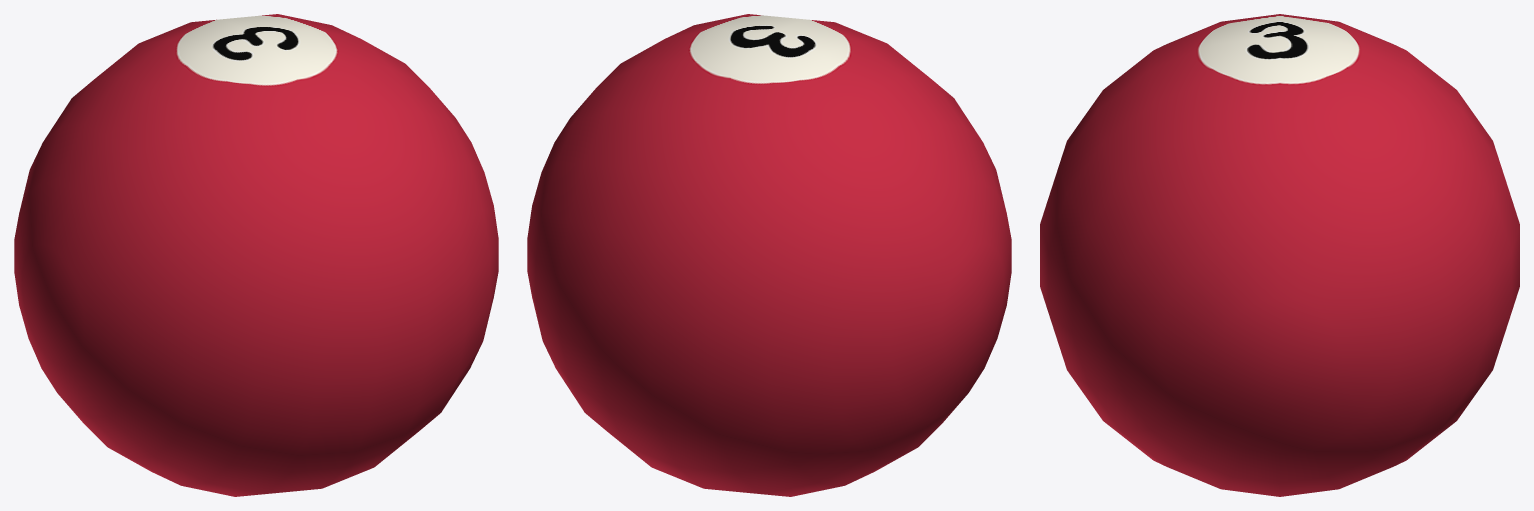
The model's file is Pool_Ball_03.fbx.
3 renders of one model, left to right at view 1: azimuth 30°, elevation 25°; view 2: azimuth 150°, elevation 25°; view 3: azimuth 270°, elevation 25°, orthographic.
Visible parts, largest first — view 1: Pool_Ball_03; view 2: Pool_Ball_03; view 3: Pool_Ball_03.
Boxes of the visible parts, x1,y1,x2,y2 form: Pool_Ball_03: [14, 14, 498, 496]; Pool_Ball_03: [527, 14, 1011, 496]; Pool_Ball_03: [1040, 14, 1519, 496].
Size of the model in its own units: 0.051 by 0.051 by 0.0505.
